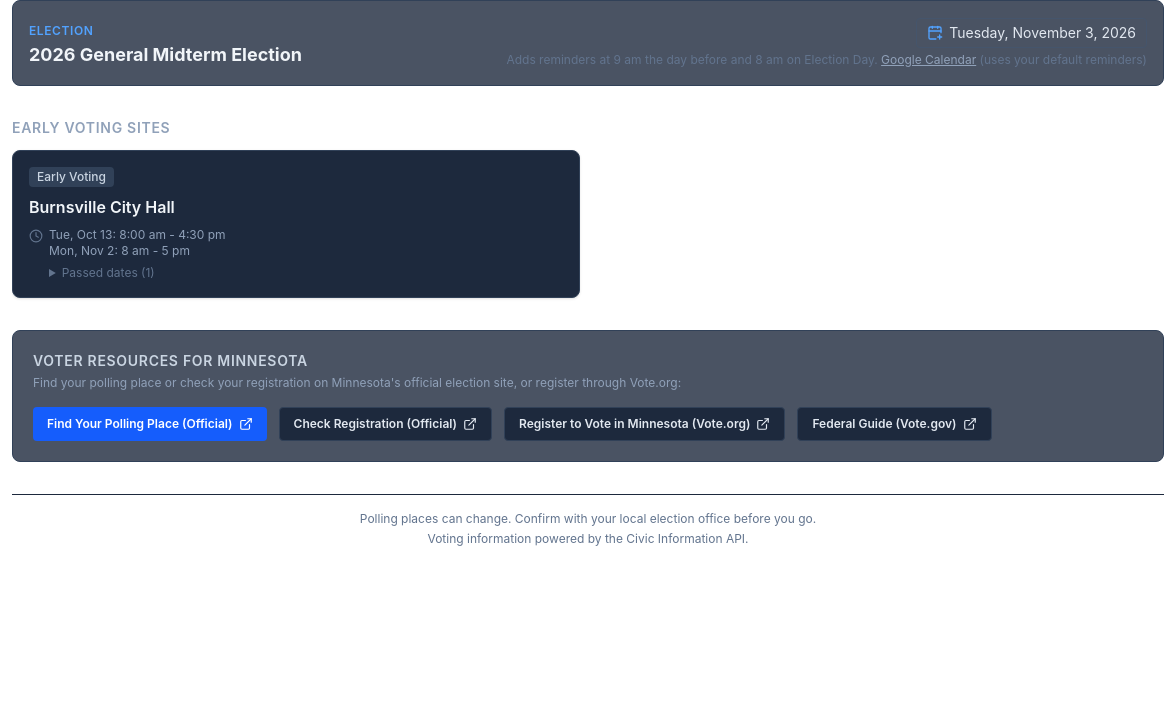
Test: VotingLocations Component › collapses passed early-voting dates into a "Passed dates" section
The width and height of the screenshot is (1164, 720).
Check: the list item "Tue, Oct 13: 8:00 am - 4:30 pm" is shown, box [49,227,226,243]
Click the heading "Passed dates (1)": (108, 272) [62,265,155,280]
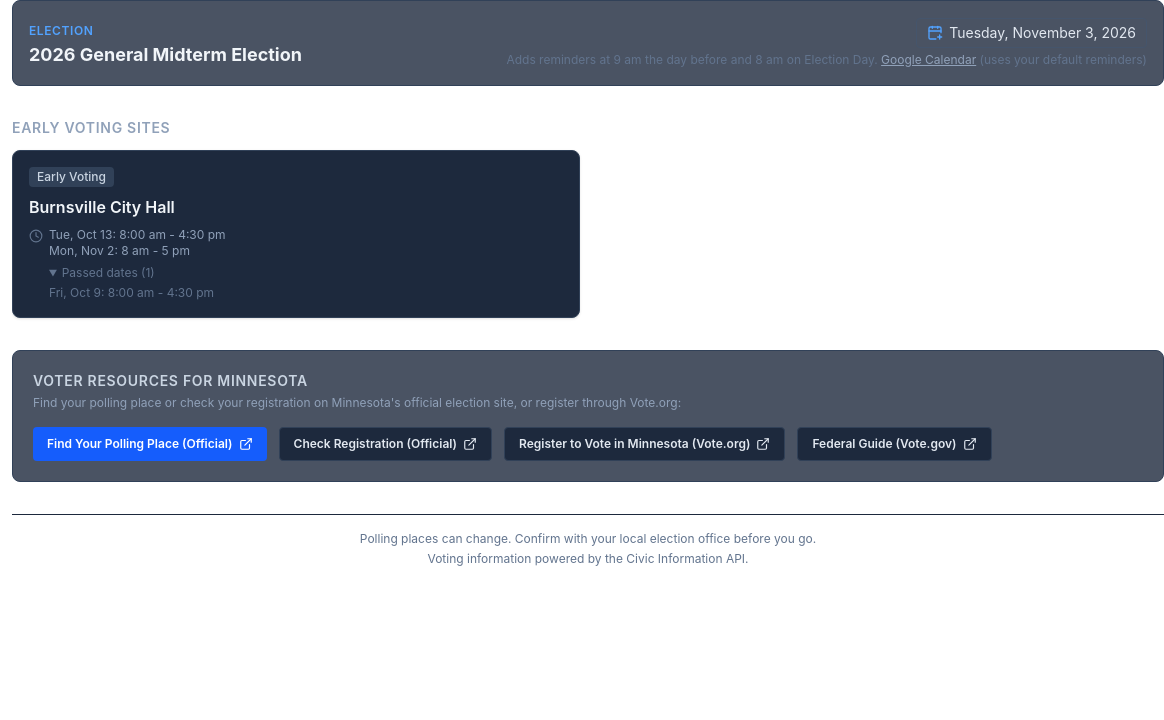
Check: the list item "Fri, Oct 9: 8:00 am - 4:30 pm" is shown, box [49,285,226,301]
